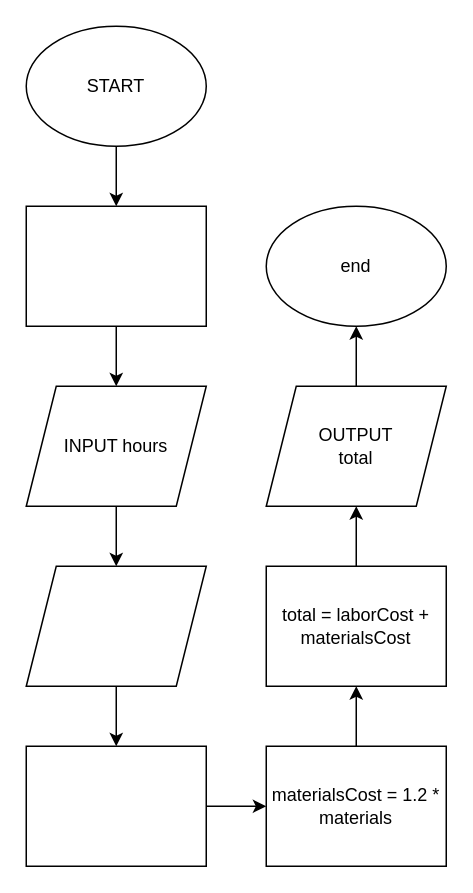
The diagram is 473 pixels wide and 893 high, and some of its shapes have lost their labels. The shapes that lost their labels are listed below. From the top down, each one's centre as x and y in pixels, then its label:
At (115,265): "hours = 0 materials = 0.0 laborCost = 0 materialsCost = 0.0 total = 0.0".
At (115,625): "INPUT materials".
At (115,805): "laborCost = hours * 30".
